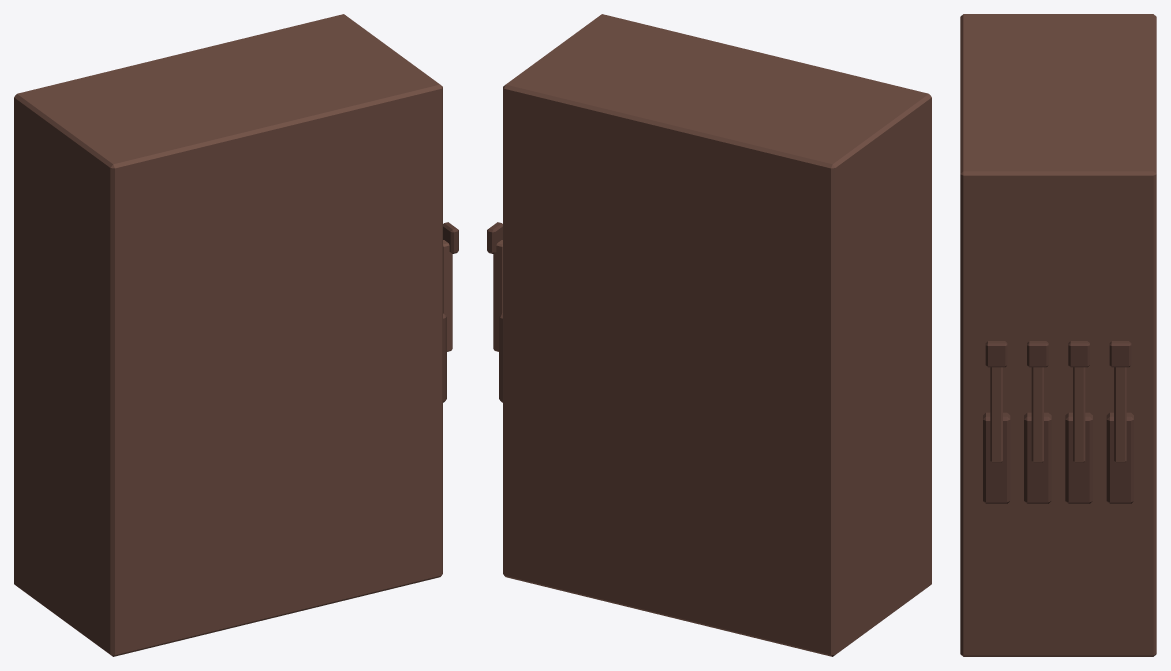
File: leviers_couloir.glb
3 renders of one model, left to right at view 1: azimuth 30°, elevation 25°; view 2: azimuth 150°, elevation 25°; view 3: azimuth 270°, elevation 25°, orthographic.
Parts seen in each view (by area): view 1: leviers_couloir; view 2: leviers_couloir; view 3: leviers_couloir.
Boxes of the visible parts, x1,y1,x2,y2 form: leviers_couloir: [14, 14, 458, 656]; leviers_couloir: [487, 14, 931, 656]; leviers_couloir: [960, 14, 1156, 656].
Size of the model in its own units: 1.15 by 1.5 by 0.55.
1 material, 1 textured.
